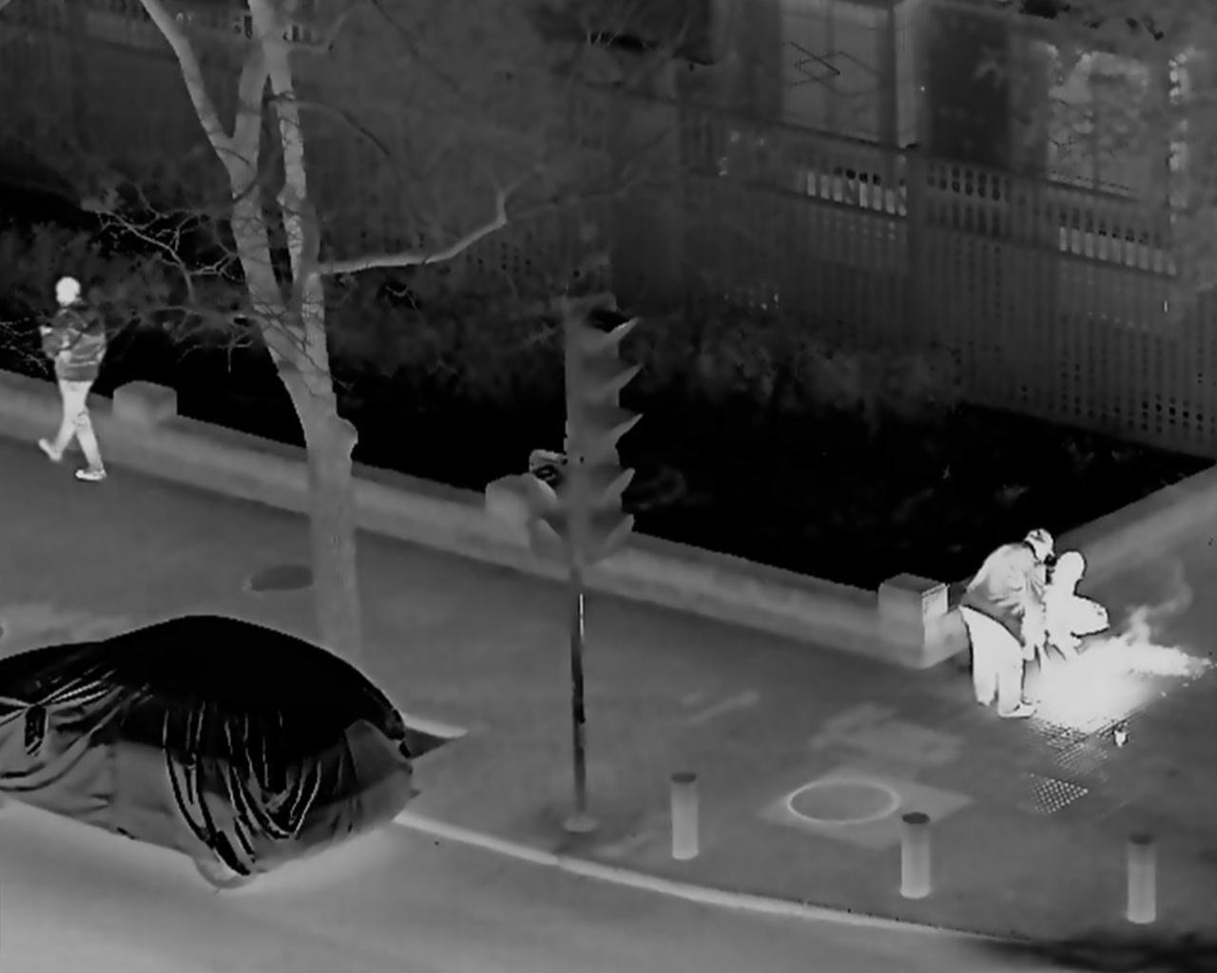person: (958, 530, 1054, 716), (36, 277, 108, 481), (1028, 548, 1111, 662)
